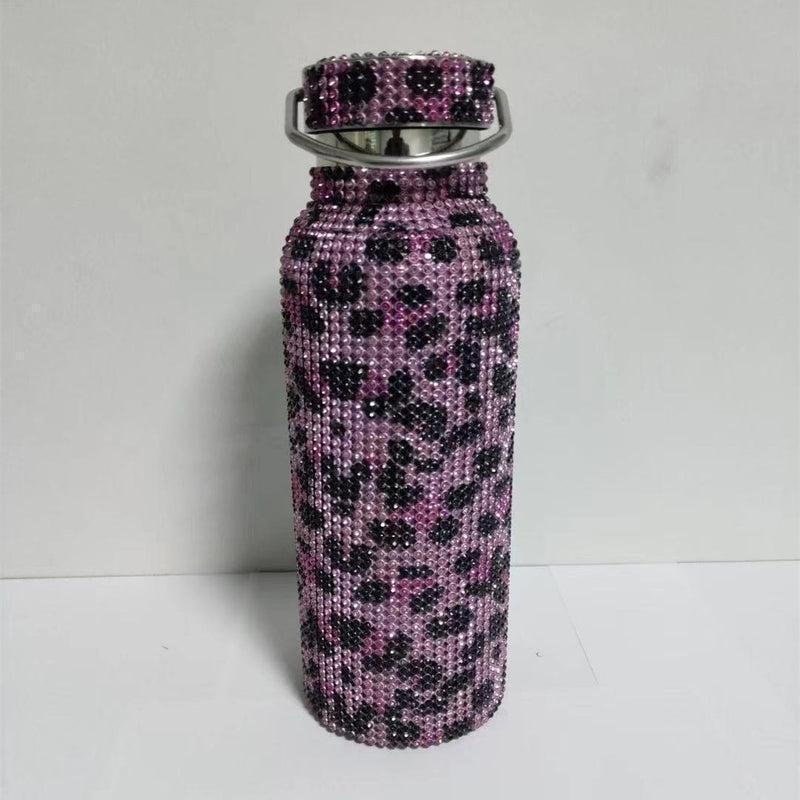gym bottle: (274, 26, 527, 754)
